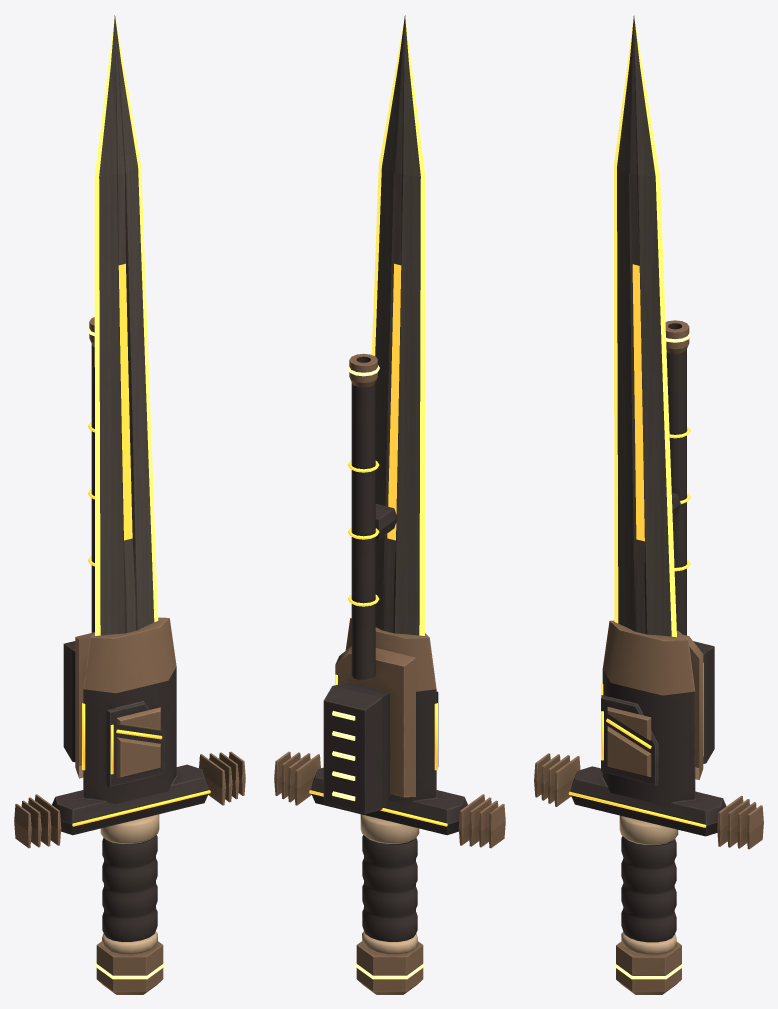
3 views of the same model, side by side, from view 1: azimuth 30°, elevation 25°; view 2: azimuth 150°, elevation 25°; view 3: azimuth 330°, elevation 25° (orthographic).
Parts seen in each view (by area): view 1: kat_blade_ember, kat_dark_ember, kat_plate_ember, glow_kat_edge_amber, glow_kat_line_amber, kat_shin_ember, kat_pale_ember; view 2: kat_dark_ember, kat_blade_ember, kat_plate_ember, glow_kat_edge_amber, glow_kat_line_amber, kat_shin_ember, kat_pale_ember, glow_kat_rim_amber; view 3: kat_dark_ember, kat_blade_ember, kat_plate_ember, glow_kat_edge_amber, glow_kat_line_amber, kat_shin_ember, kat_pale_ember.
Boxes of the visible parts, x1,y1,x2,y2 form: kat_blade_ember: (99, 15, 154, 635); kat_dark_ember: (52, 344, 209, 941); kat_plate_ember: (14, 317, 245, 994); glow_kat_edge_amber: (94, 15, 158, 635); glow_kat_line_amber: (72, 263, 210, 826); kat_shin_ember: (115, 17, 137, 633); kat_pale_ember: (100, 814, 159, 954); kat_dark_ember: (310, 356, 467, 941); kat_blade_ember: (375, 15, 420, 635); kat_plate_ember: (274, 353, 505, 994); glow_kat_edge_amber: (371, 15, 425, 635); glow_kat_line_amber: (309, 263, 447, 826); kat_shin_ember: (382, 17, 404, 633); kat_pale_ember: (360, 814, 419, 954); glow_kat_rim_amber: (332, 365, 425, 979); kat_dark_ember: (570, 323, 726, 942); kat_blade_ember: (617, 15, 671, 636); kat_plate_ember: (534, 320, 763, 994); glow_kat_edge_amber: (614, 15, 676, 637); glow_kat_line_amber: (568, 264, 706, 827); kat_shin_ember: (629, 19, 647, 634); kat_pale_ember: (619, 815, 678, 954).
Size of the model in its own units: 0.1585 by 0.679 by 0.082.
8 materials, 5 textured.
